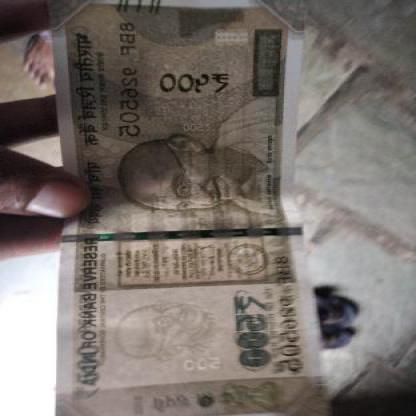New500Front: (55, 6, 294, 416)
